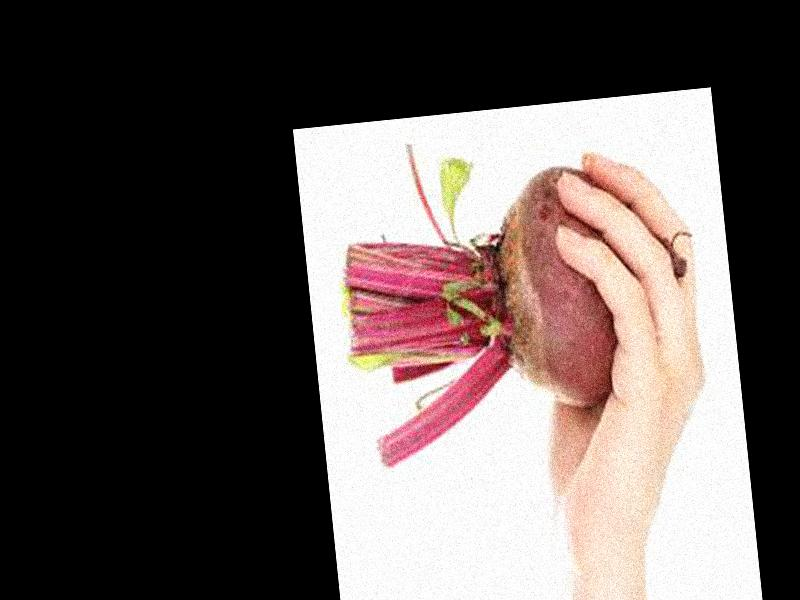Beet: (328, 118, 705, 469)
